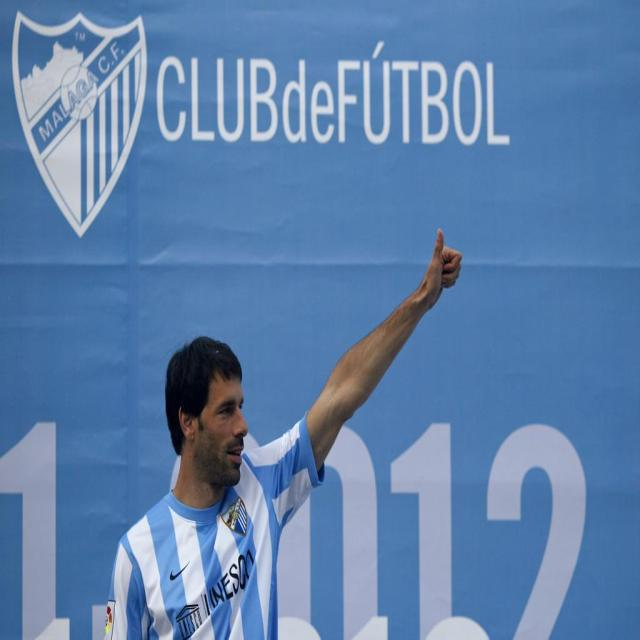Face: (176, 351, 260, 496)
